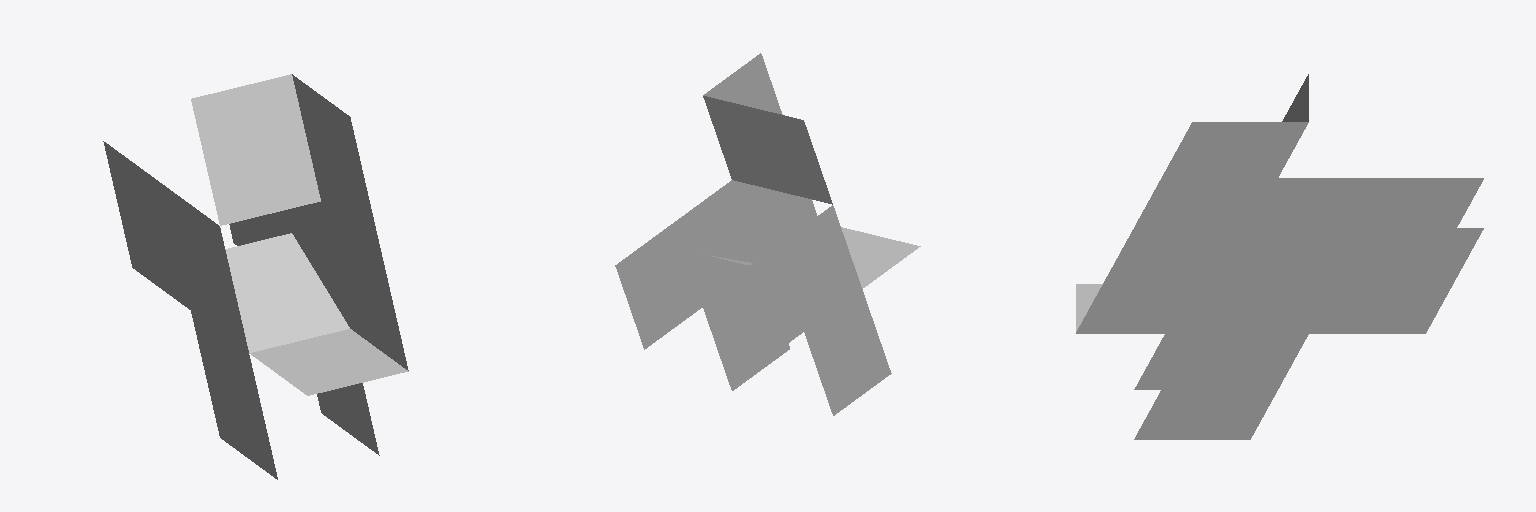
File: tile_indoors_wall_5.obj
The picture shows the model from 3 angles: view 1: azimuth 30°, elevation 25°; view 2: azimuth 150°, elevation 25°; view 3: azimuth 270°, elevation 25°; orthographic projection.
Parts seen in each view (by area): view 1: Default; view 2: Default; view 3: Default.
Boxes of the visible parts, box(x1,y1,x2,y2) form: Default: box(103, 74, 408, 479); Default: box(615, 53, 920, 415); Default: box(1076, 74, 1483, 439).
Size of the model in its own units: 1 by 3 by 3.5.